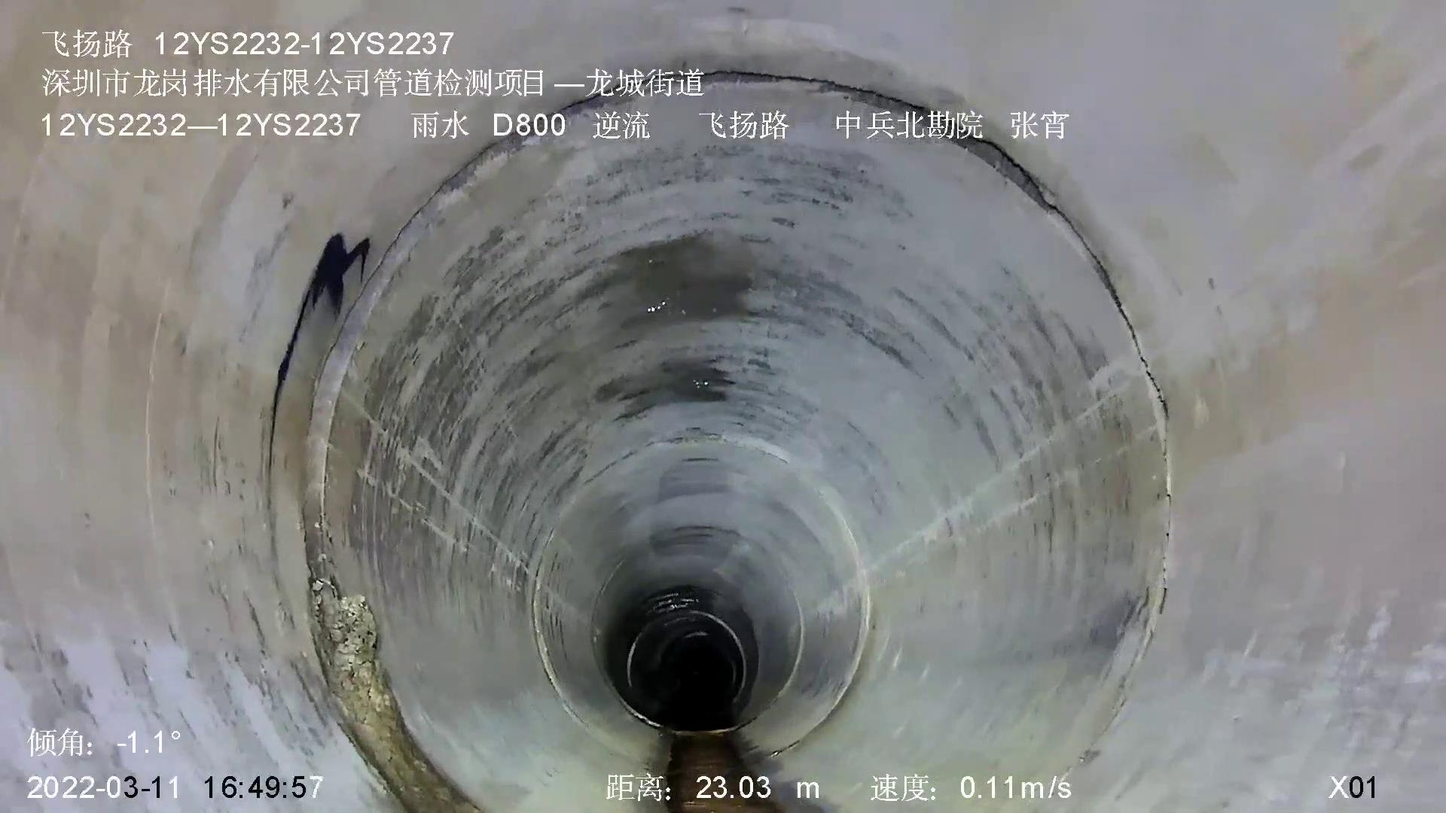CKTJ: (297, 62, 1180, 805)
